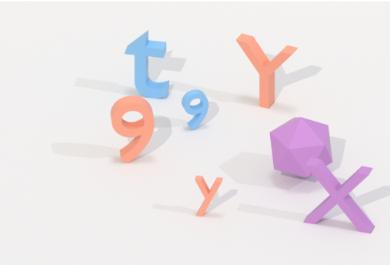0-TronCanh: (259, 112, 335, 183)
9: (107, 93, 158, 166), (178, 87, 211, 136)
X: (303, 154, 376, 238)
Y: (231, 27, 303, 113)
t: (120, 27, 173, 102)
y: (189, 169, 227, 221)
